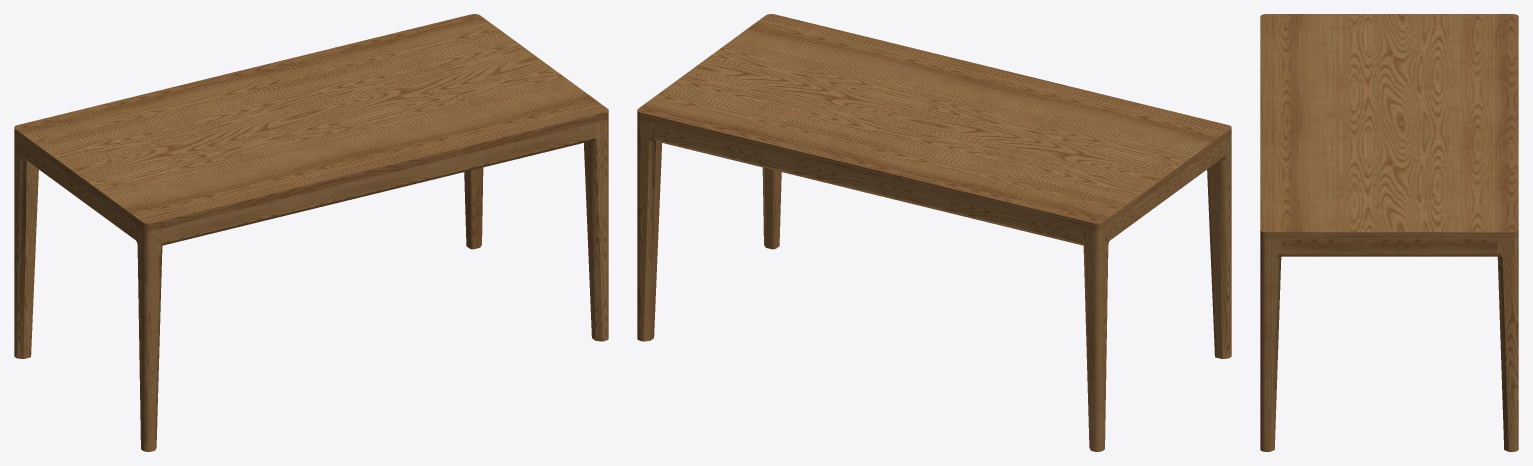
The model's file is table-dine-oak.glb.
3 renders of one model, left to right at view 1: azimuth 30°, elevation 25°; view 2: azimuth 150°, elevation 25°; view 3: azimuth 270°, elevation 25°, orthographic. The views are drawn at different scales.
Parts seen in each view (by area): view 1: Top, Legs, Long, Short; view 2: Top, Legs, Long, Short; view 3: Top, Legs, Short.
Boxes of the visible parts, <box> form: Top: <box>14,14,608,231</box>; Legs: <box>14,119,608,451</box>; Long: <box>163,123,592,245</box>; Short: <box>22,142,134,239</box>; Top: <box>637,14,1231,231</box>; Legs: <box>637,119,1231,451</box>; Long: <box>653,123,1082,245</box>; Short: <box>1111,142,1223,239</box>; Top: <box>1260,14,1518,239</box>; Legs: <box>1260,238,1518,451</box>; Short: <box>1281,239,1497,256</box>.
Bounding box in the file's own units: 1.6 × 0.75 × 0.8.
Materials: 1 (1 with a texture image).
